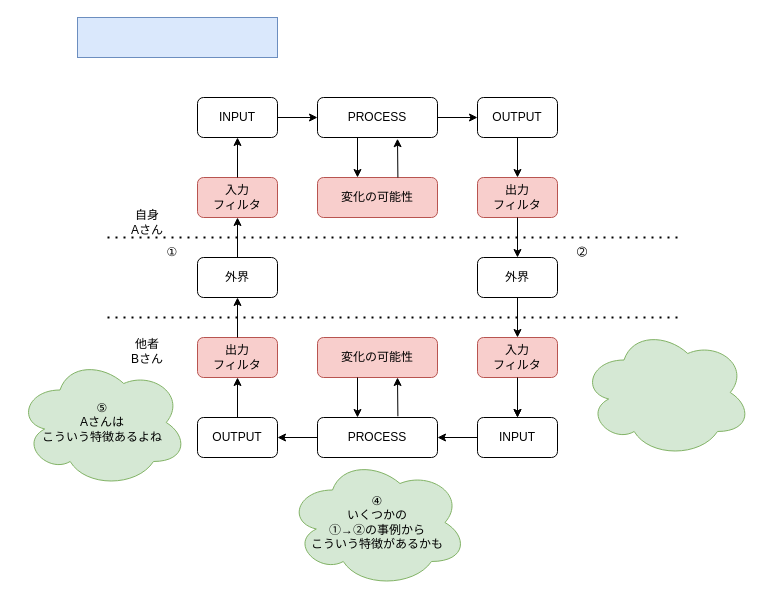
Image size: 769x605. Some labels were removed from this diagram. Here are the shapes that lost their labels. From the top down, the centre of each, then its label:
point (177, 37): 他者からの反応で気づく
point (666, 392): ③ この入力で これが出てるくる のか！ ①→➁
